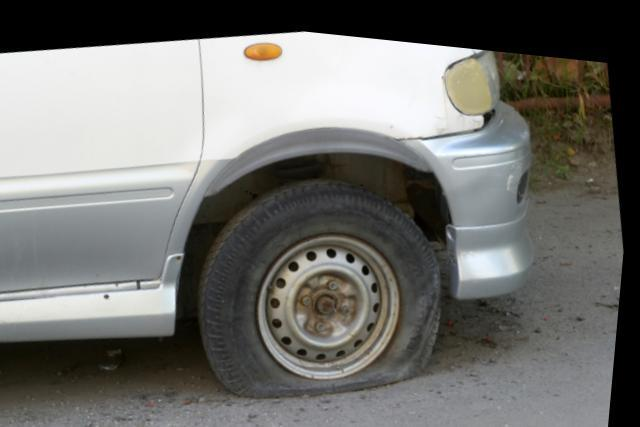tire flat: (205, 167, 450, 391)
